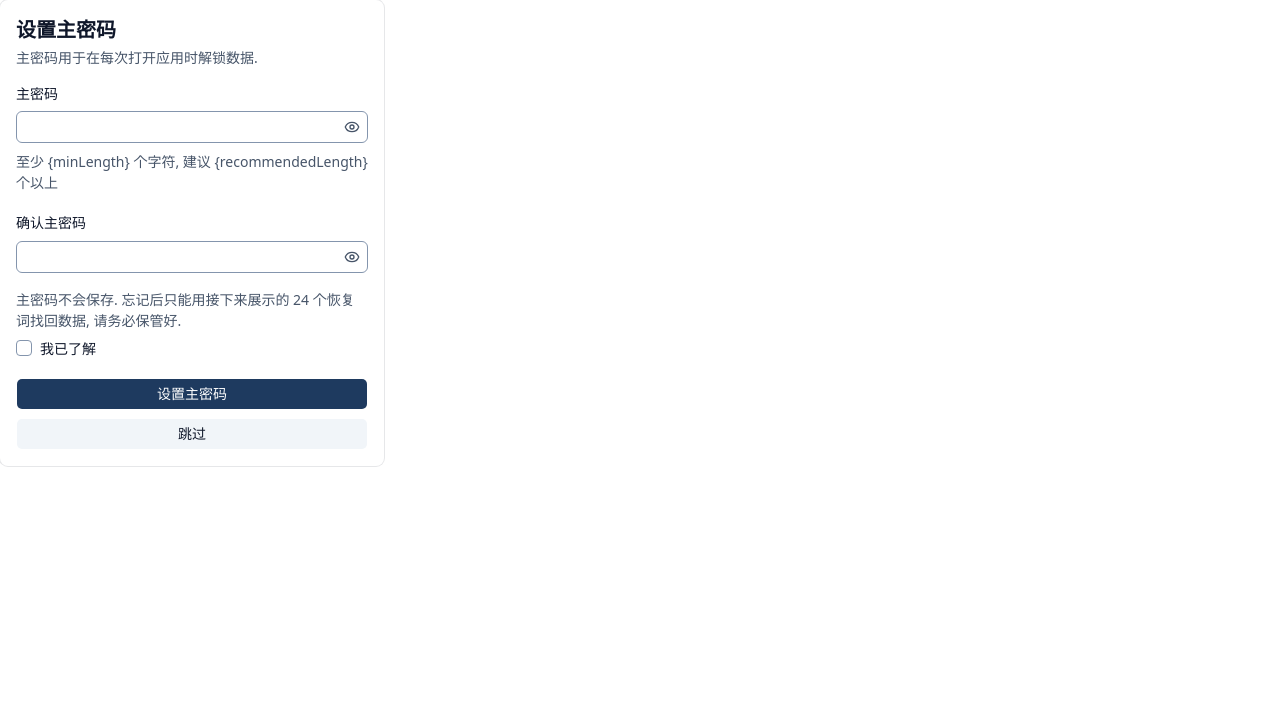
OnboardingScreen 确认跳过 › 系统不能保护数据密钥时关闭确认框并在顶部提示条说明
Click the button "跳过".
click(192, 434)  # box [16,418,368,450]
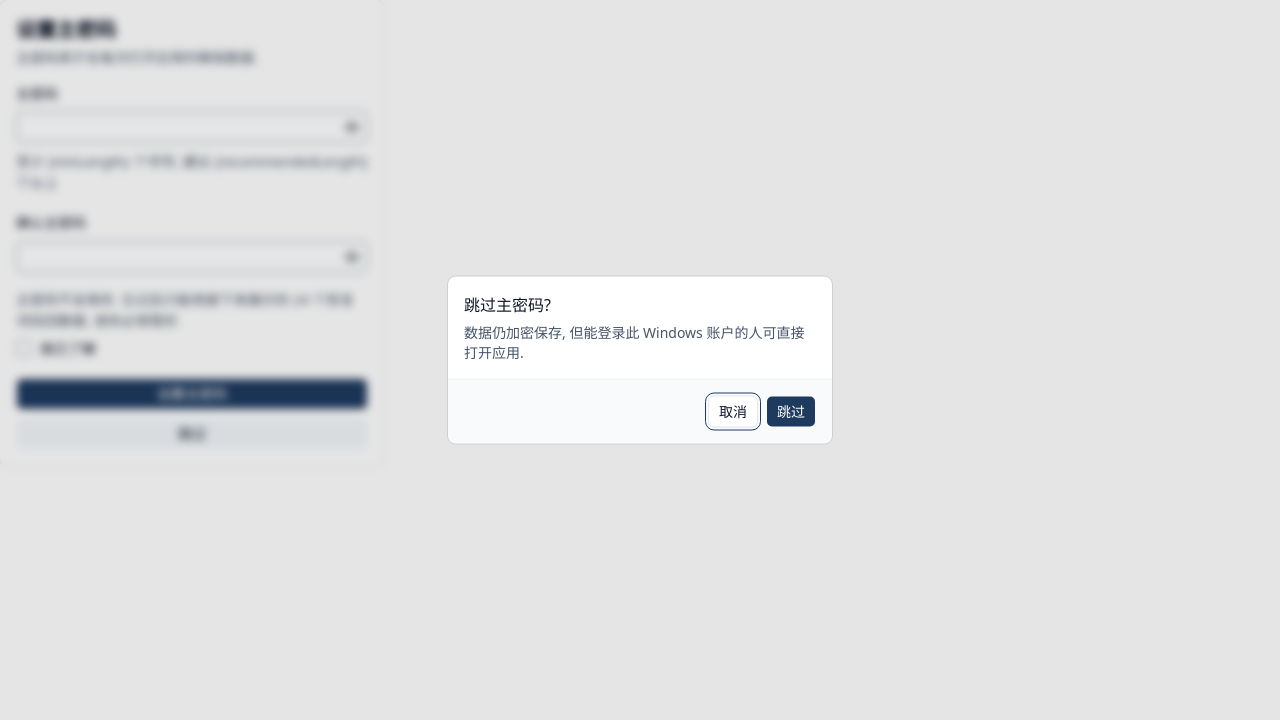
Click the button "跳过".
click(791, 412)  # box [766,396,816,428]
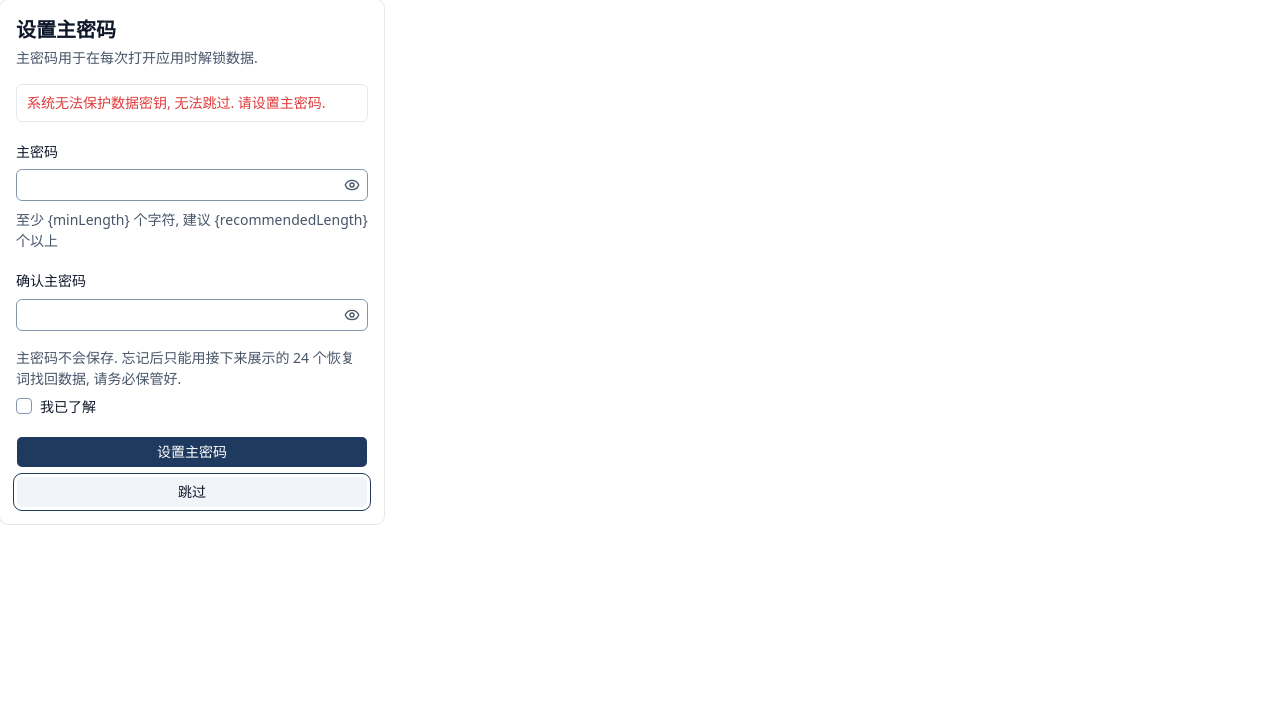
Check: the dialog is gone
Check: the message reads "系统无法保护数据密钥, 无法跳过. 请设置主密码.", box [27,93,326,112]
